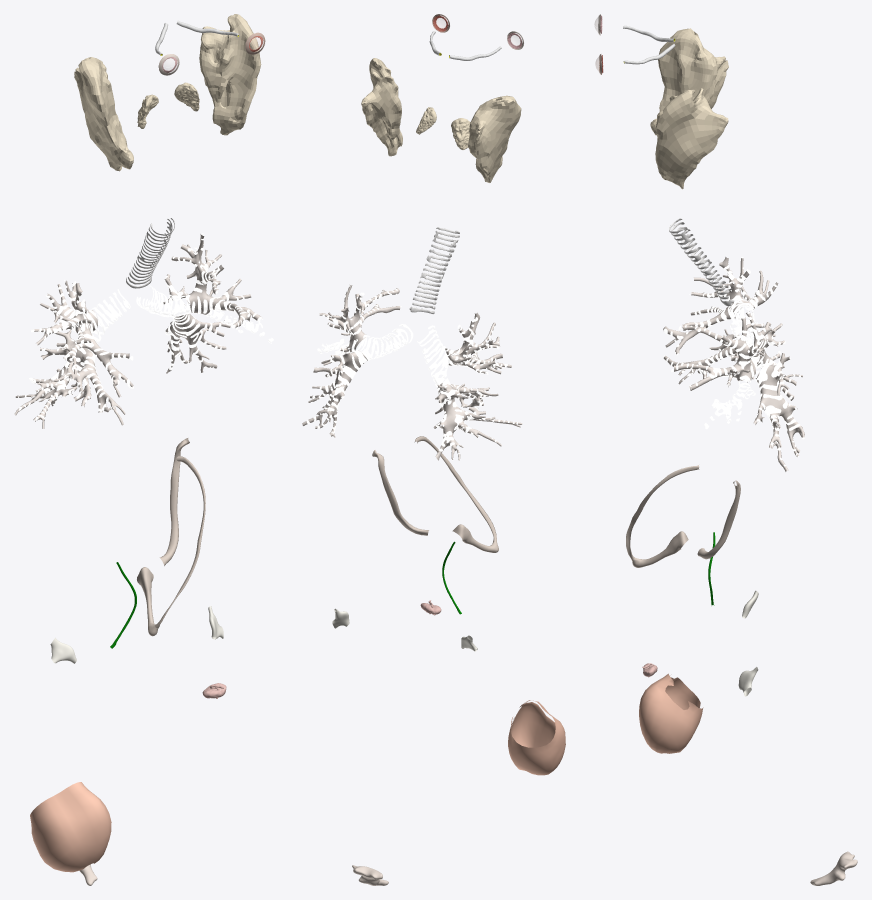
Rendered from male-gaps.glb.
3 renders of one model, left to right at view 1: azimuth 30°, elevation 25°; view 2: azimuth 150°, elevation 25°; view 3: azimuth 270°, elevation 25°, orthographic. The views are drawn at different scales.
Parts seen in each view (by area): view 1: VH_F_caecum, VH_F_parotid_gland_L, VH_F_parotid_gland_R, VH_F_cartilage_of_tertiary_bronchus_R, VH_F_cartilage_of_tertiary_bronchus_L, VH_F_tracheal_cartilage, VH_F_ligamentum_venosum, VH_F_cartilage_of_main_bronchus_L, VH_F_cartilage_of_lobar_bronchus_L, VH_F_right_anterior_bronchus, VH_F_cartilage_of_main_bronchus_R, VH_F_left_lingula_superior_bronchus (+4 smaller); view 2: VH_F_caecum, VH_F_parotid_gland_R, VH_F_parotid_gland_L, VH_F_tracheal_cartilage, VH_F_cartilage_of_tertiary_bronchus_R, VH_F_cartilage_of_tertiary_bronchus_L, VH_F_cartilage_of_main_bronchus_L, VH_F_ligamentum_venosum, VH_F_cartilage_of_main_bronchus_R, VH_F_cartilage_of_lobar_bronchus_L, VH_F_falciform_ligament, VH_F_cartilage_of_lobar_bronchus_R (+1 smaller); view 3: VH_F_parotid_gland_L, VH_F_caecum, VH_F_parotid_gland_R, VH_F_cartilage_of_tertiary_bronchus_L, VH_F_cartilage_of_tertiary_bronchus_R, VH_F_tracheal_cartilage, VH_F_cartilage_of_lobar_bronchus_L, VH_F_left_lingula_superior_bronchus, VH_F_right_anterior_bronchus, VH_F_ligamentum_venosum, VH_F_coccyx, VH_F_right_apical_bronchus (+3 smaller).
Part boxes in pixels (bbox=[...]): VH_F_caecum: bbox=[30, 782, 111, 872]; VH_F_parotid_gland_L: bbox=[199, 14, 261, 135]; VH_F_parotid_gland_R: bbox=[74, 57, 133, 171]; VH_F_cartilage_of_tertiary_bronchus_R: bbox=[18, 280, 133, 420]; VH_F_cartilage_of_tertiary_bronchus_L: bbox=[164, 233, 273, 373]; VH_F_tracheal_cartilage: bbox=[126, 218, 174, 288]; VH_F_ligamentum_venosum: bbox=[159, 438, 189, 565]; VH_F_cartilage_of_main_bronchus_L: bbox=[136, 285, 190, 317]; VH_F_cartilage_of_lobar_bronchus_L: bbox=[167, 280, 209, 341]; VH_F_right_anterior_bronchus: bbox=[63, 330, 133, 397]; VH_F_cartilage_of_main_bronchus_R: bbox=[90, 289, 130, 344]; VH_F_left_lingula_superior_bronchus: bbox=[206, 279, 262, 327]; VH_F_caecum: bbox=[508, 700, 565, 775]; VH_F_parotid_gland_R: bbox=[468, 95, 521, 182]; VH_F_parotid_gland_L: bbox=[361, 58, 402, 156]; VH_F_tracheal_cartilage: bbox=[409, 227, 459, 314]; VH_F_cartilage_of_tertiary_bronchus_R: bbox=[438, 317, 519, 460]; VH_F_cartilage_of_tertiary_bronchus_L: bbox=[306, 284, 401, 436]; VH_F_cartilage_of_main_bronchus_L: bbox=[361, 324, 413, 360]; VH_F_ligamentum_venosum: bbox=[372, 450, 428, 535]; VH_F_cartilage_of_main_bronchus_R: bbox=[417, 325, 447, 387]; VH_F_cartilage_of_lobar_bronchus_L: bbox=[330, 318, 369, 390]; VH_F_falciform_ligament: bbox=[414, 436, 496, 542]; VH_F_cartilage_of_lobar_bronchus_R: bbox=[435, 346, 471, 433]; VH_F_parotid_gland_L: bbox=[655, 88, 728, 189]; VH_F_caecum: bbox=[639, 673, 703, 753]; VH_F_parotid_gland_R: bbox=[650, 28, 728, 135]; VH_F_cartilage_of_tertiary_bronchus_L: bbox=[663, 311, 804, 468]; VH_F_cartilage_of_tertiary_bronchus_R: bbox=[663, 257, 800, 399]; VH_F_tracheal_cartilage: bbox=[669, 218, 734, 306]; VH_F_cartilage_of_lobar_bronchus_L: bbox=[738, 347, 787, 421]; VH_F_left_lingula_superior_bronchus: bbox=[663, 355, 749, 390]; VH_F_right_anterior_bronchus: bbox=[663, 306, 730, 354]; VH_F_ligamentum_venosum: bbox=[697, 480, 740, 559]; VH_F_coccyx: bbox=[810, 851, 857, 885]; VH_F_right_apical_bronchus: bbox=[691, 257, 749, 299].
Size of the model in its own units: 0.2181 by 0.7557 by 0.2115.
